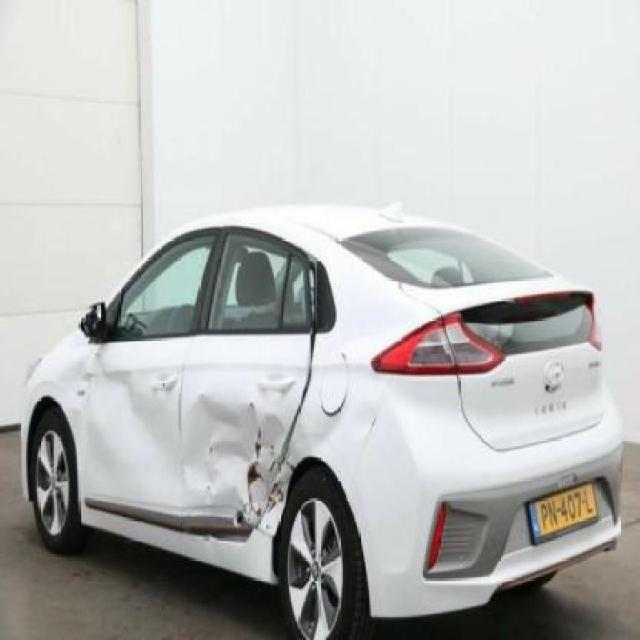doorouter-dent: (180, 388, 280, 536), (89, 345, 167, 478)
quaterpanel-dent: (258, 448, 297, 544)
